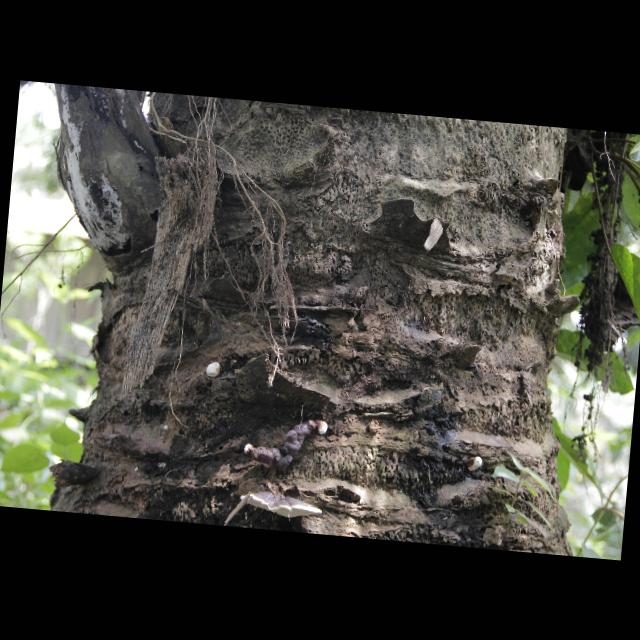ganoderma: (252, 416, 316, 476), (240, 489, 325, 522)
primordium: (466, 457, 483, 474), (205, 363, 221, 380), (315, 421, 329, 437), (244, 444, 254, 457), (163, 426, 169, 432)
